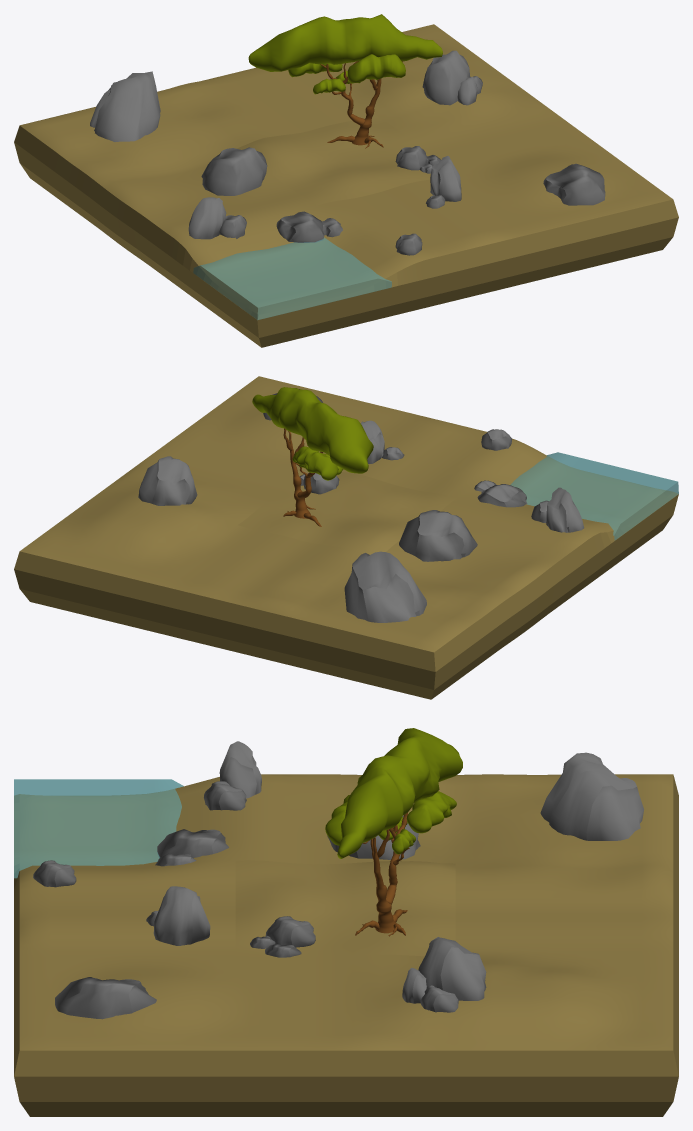
The model's file is CartoonBackGround.fbx.
3 views of the same model, one above another, from view 1: azimuth 30°, elevation 25°; view 2: azimuth 150°, elevation 25°; view 3: azimuth 270°, elevation 25° (orthographic). The views are drawn at different scales.
Parts seen in each view (by area): view 1: Ground6_Ground5, Water2, pCylinder6, Rocks1:pCube19, Rocks1:pCube2, Rocks1:pCube23, Rocks1:pCube21, Rocks1:pCube16, pCylinder7, Rocks1:pCube18, Rocks1:pCube8, Rocks1:pCube11 (+2 smaller); view 2: Ground6_Ground5, Water2, pCylinder6, Rocks1:pCube19, Rocks1:pCube2, Rocks1:pCube21, Rocks1:pCube16, pCylinder8, Rocks1:pCube18, Rocks1:pCube8, Rocks1:pCube17, pCylinder1; view 3: Ground6_Ground5, Water2, pCylinder6, Rocks1:pCube19, Rocks1:pCube23, Rocks1:pCube21, Rocks1:pCube8, Rocks1:pCube16, Rocks1:pCube18, pCylinder8, Rocks1:pCube11, Rocks1:pCube13 (+6 smaller).
Boxes of the visible parts, x1,y1,x2,y2 form: Ground6_Ground5: (14,24,678,347); Water2: (193,237,391,319); pCylinder6: (248,14,442,71); Rocks1:pCube19: (90,71,160,141); Rocks1:pCube2: (201,147,267,195); Rocks1:pCube23: (543,163,605,205); Rocks1:pCube21: (422,50,469,105); Rocks1:pCube16: (188,197,226,239); pCylinder7: (347,54,405,83); Rocks1:pCube18: (276,211,324,242); Rocks1:pCube8: (430,156,461,201); Rocks1:pCube11: (395,146,426,170); Ground6_Ground5: (14,376,678,699); Water2: (510,452,678,539); pCylinder6: (252,387,373,473); Rocks1:pCube19: (344,551,426,622); Rocks1:pCube2: (399,510,477,561); Rocks1:pCube21: (138,456,197,505); Rocks1:pCube16: (546,487,584,532); pCylinder8: (294,446,338,480); Rocks1:pCube18: (477,484,527,507); Rocks1:pCube8: (361,420,384,463); Rocks1:pCube17: (481,429,512,450); pCylinder1: (288,431,310,518); Ground6_Ground5: (14,774,678,1116); Water2: (14,779,183,878); pCylinder6: (337,728,462,858); Rocks1:pCube19: (540,752,643,840); Rocks1:pCube23: (55,977,156,1019); Rocks1:pCube21: (418,937,486,1000); Rocks1:pCube8: (153,886,210,945); Rocks1:pCube16: (219,741,261,798); Rocks1:pCube18: (157,829,228,857); pCylinder8: (406,791,456,833); Rocks1:pCube11: (265,916,315,947); Rocks1:pCube13: (203,781,246,810).
Size of the model in its own units: 36 by 14.7 by 36.
